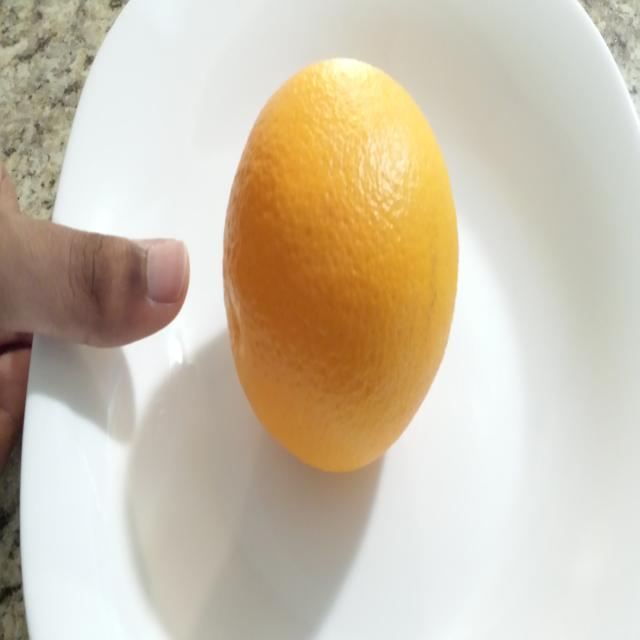orange: (222, 56, 459, 473)
